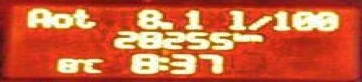-: (158, 21, 172, 29)
0: (314, 11, 338, 31), (289, 11, 314, 30)
1: (181, 8, 202, 29), (270, 10, 289, 31)
2: (110, 29, 135, 48), (161, 30, 184, 49)
3: (167, 53, 195, 74)
5: (184, 30, 208, 49), (208, 31, 233, 49)
7: (195, 53, 223, 73)
8: (128, 52, 158, 73), (133, 8, 161, 29), (135, 30, 162, 49), (54, 56, 78, 73)
X: (23, 6, 52, 28), (70, 7, 96, 28), (225, 8, 246, 29), (245, 14, 270, 30), (49, 12, 72, 28), (80, 57, 103, 73), (156, 56, 169, 70), (245, 33, 265, 42), (232, 31, 244, 43)
